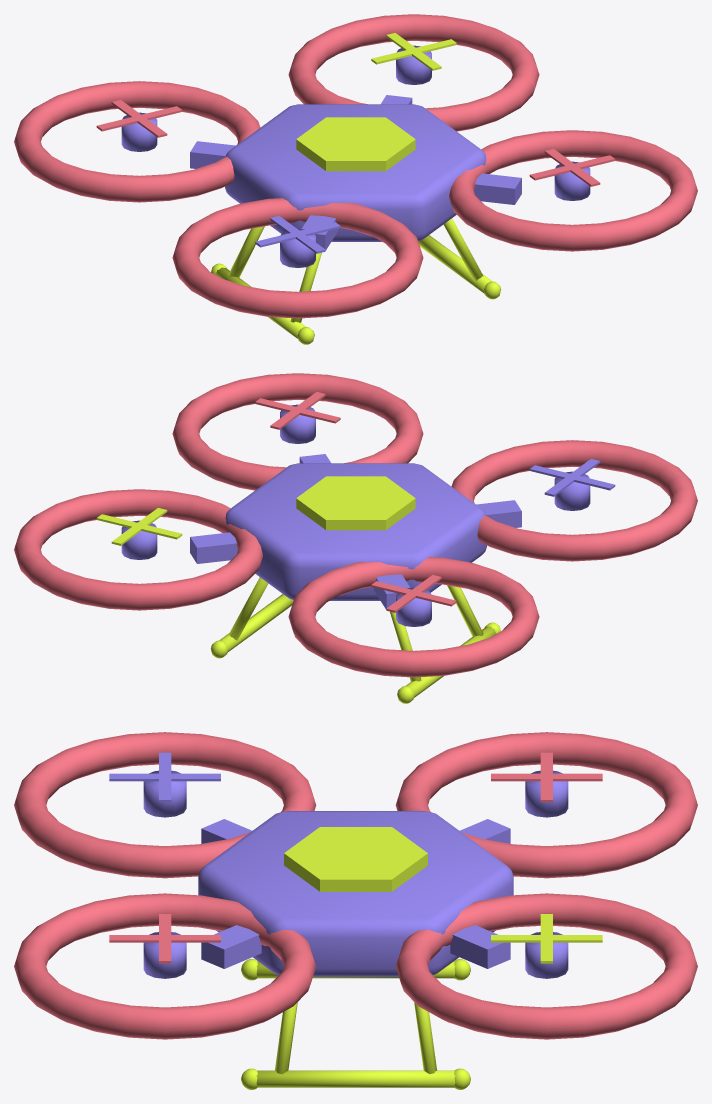
Rendered from drone.glb.
The picture shows the model from 3 angles, top to bottom: view 1: azimuth 30°, elevation 25°; view 2: azimuth 150°, elevation 25°; view 3: azimuth 270°, elevation 25°; orthographic projection. The views are drawn at different scales.
Visible parts, largest first — view 1: Body, GuardRing_3, GuardRing_2, GuardRing_1, GuardRing_0, CenterPanel, Arm_3, Propeller_1, Propeller_0, Propeller_2, Propeller_3, SkidRail_R (+9 smaller); view 2: Body, GuardRing_0, GuardRing_1, GuardRing_2, GuardRing_3, CenterPanel, Arm_0, Propeller_2, Propeller_0, Propeller_1, Propeller_3, SkidRail_R (+9 smaller); view 3: Body, GuardRing_0, GuardRing_3, GuardRing_1, GuardRing_2, CenterPanel, SkidRail_R, Arm_0, Arm_3, Propeller_1, Propeller_2, Propeller_0 (+10 smaller).
Part boxes in pixels (x1,y1,x2,y2): Body: (225,104,486,241); GuardRing_3: (449,130,697,251); GuardRing_2: (172,198,423,318); GuardRing_1: (14,81,260,202); GuardRing_0: (288,14,539,131); CenterPanel: (296,117,415,171); Arm_3: (474,173,521,204); Propeller_1: (96,100,182,137); Propeller_0: (371,33,456,70); Propeller_2: (255,216,340,253); Propeller_3: (529,149,615,186); SkidRail_R: (418,235,492,293); Body: (225,463,486,600); GuardRing_0: (14,489,262,610); GuardRing_1: (288,557,539,677); GuardRing_2: (451,440,697,561); GuardRing_3: (172,373,423,490); CenterPanel: (296,476,415,530); Arm_0: (190,532,237,563); Propeller_2: (529,459,615,496); Propeller_0: (96,508,182,545); Propeller_1: (371,575,456,612); Propeller_3: (255,392,340,429); SkidRail_R: (219,594,293,652); Body: (198,811,513,976); GuardRing_0: (395,893,697,1039); GuardRing_3: (14,893,316,1039); GuardRing_1: (395,732,697,878); GuardRing_2: (14,732,316,878); CenterPanel: (284,827,427,891); SkidRail_R: (256,1070,455,1087); Arm_0: (450,925,510,968); Arm_3: (201,925,261,968); Propeller_1: (491,752,602,802); Propeller_2: (109,752,220,802); Propeller_0: (491,914,602,963).
Size of the model in its own units: 3.8 by 1.11 by 3.8.
